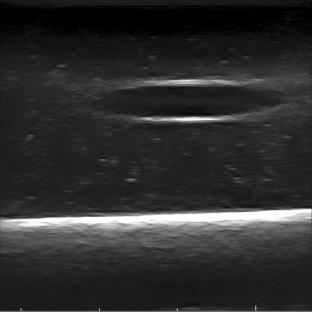vessel: (98, 78, 281, 125)
